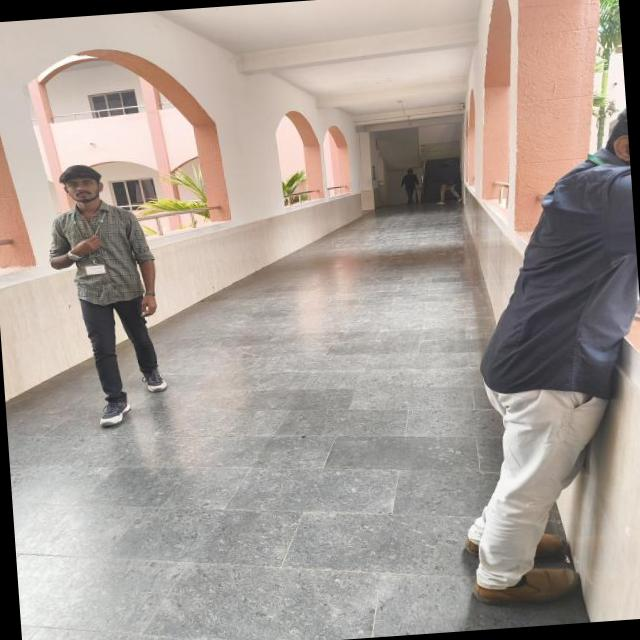id_card: (78, 195, 114, 282)
